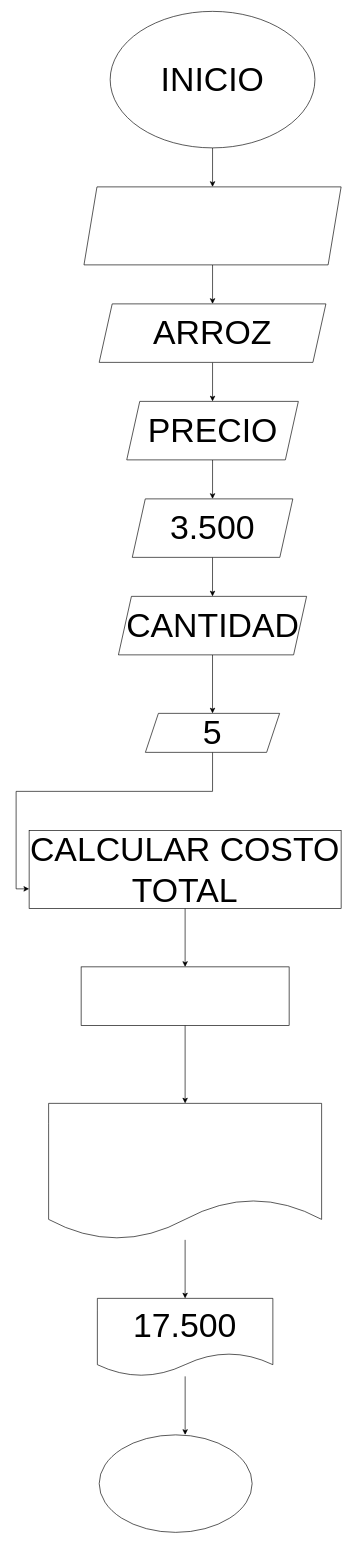
The diagram is 352 pixels wide and 1544 high, and some of its shapes have lost their labels. The shapes that lost their labels are listed below. From the top down, each one's centre as x and y in pixels, then its label:
pixel 212 225: LEER NOMBRE
pixel 184 995: 3.500 X 5
pixel 185 1171: MOSTAR RESULTADO
pixel 175 1483: FIN
